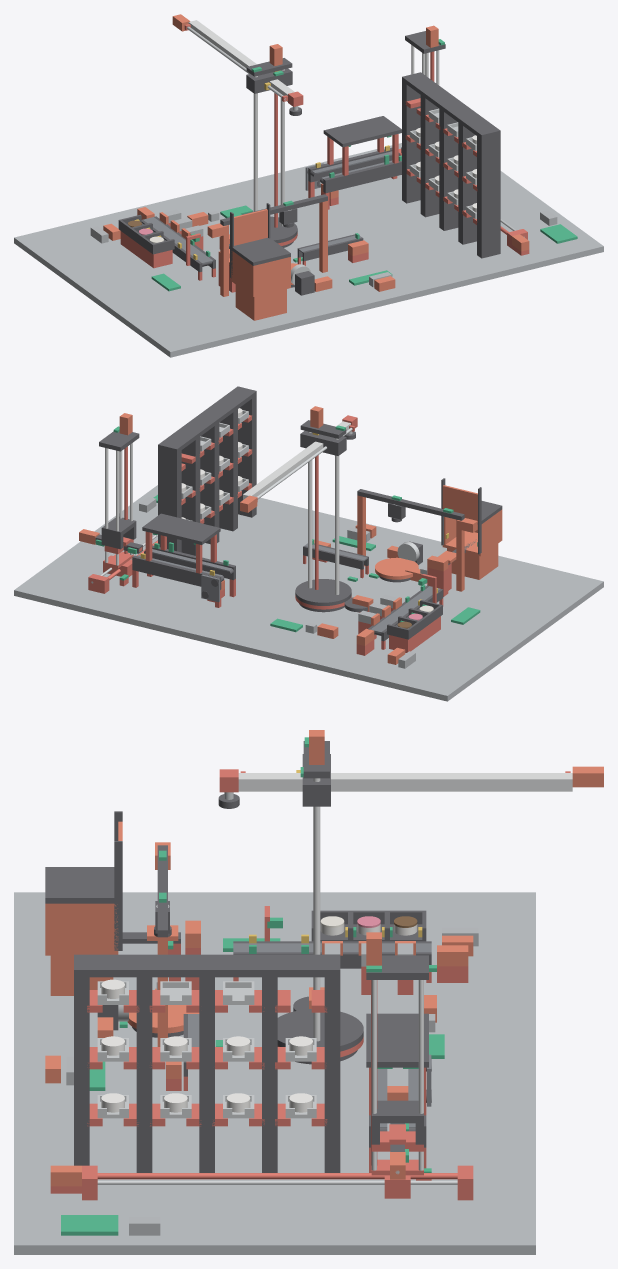
The model's file is factory_scene.glb.
3 views of the same model, one above another, from view 1: azimuth 30°, elevation 25°; view 2: azimuth 150°, elevation 25°; view 3: azimuth 270°, elevation 25° (orthographic). The views are drawn at different scales.
Parts seen in each view (by area): view 1: Base_Plate, rack_post_1, rack_cap_beam, rack_post_4, rack_post_3, rack_post_5, rack_post_2, cover_roof, oven_pedestal, cv_side_rail_L, oven_roof, Q13_oven_door (+13 smaller); view 2: Base_Plate, rack_cap_beam, rack_post_5, rack_post_2, rack_post_3, rack_post_4, cover_roof, rack_post_1, turntable_disc, cv_side_rail_R, arm, oven_pedestal (+15 smaller); view 3: Base_Plate, rack_cap_beam, arm, oven_wall_R, rack_post_5, rack_post_2, rack_post_3, rack_post_4, rack_post_1, cover_roof, oven_roof, travel_spindle (+18 smaller).
Boxes of the visible parts, x1=… form: Base_Plate: x1=14, y1=143, x2=603, y2=357; rack_post_1: x1=477, y1=135, x2=500, y2=258; rack_cap_beam: x1=402, y1=72, x2=500, y2=139; rack_post_4: x1=420, y1=95, x2=439, y2=217; rack_post_3: x1=439, y1=109, x2=458, y2=230; rack_post_5: x1=402, y1=81, x2=420, y2=203; rack_post_2: x1=458, y1=122, x2=476, y2=244; cover_roof: x1=323, y1=116, x2=401, y2=147; oven_pedestal: x1=235, y1=285, x2=286, y2=320; cv_side_rail_L: x1=323, y1=161, x2=401, y2=193; oven_roof: x1=232, y1=237, x2=290, y2=265; Q13_oven_door: x1=234, y1=209, x2=267, y2=245; Base_Plate: x1=14, y1=485, x2=603, y2=701; rack_cap_beam: x1=158, y1=386, x2=256, y2=453; rack_post_5: x1=158, y1=449, x2=181, y2=552; rack_post_2: x1=219, y1=409, x2=237, y2=531; rack_post_3: x1=200, y1=423, x2=219, y2=544; rack_post_4: x1=181, y1=437, x2=200, y2=555; cover_roof: x1=142, y1=513, x2=220, y2=544; rack_post_1: x1=238, y1=395, x2=256, y2=517; turntable_disc: x1=295, y1=579, x2=351, y2=605; cv_side_rail_R: x1=132, y1=555, x2=221, y2=589; arm: x1=243, y1=421, x2=350, y2=499; oven_pedestal: x1=447, y1=544, x2=498, y2=579; Base_Plate: x1=14, y1=892, x2=535, y2=1254; rack_cap_beam: x1=74, y1=954, x2=340, y2=977; arm: x1=238, y1=773, x2=572, y2=791; oven_wall_R: x1=45, y1=903, x2=118, y2=950; rack_post_5: x1=324, y1=977, x2=340, y2=1172; rack_post_2: x1=136, y1=977, x2=152, y2=1172; rack_post_3: x1=199, y1=977, x2=214, y2=1172; rack_post_4: x1=262, y1=977, x2=277, y2=1172; rack_post_1: x1=74, y1=977, x2=89, y2=1165; cover_roof: x1=366, y1=1013, x2=428, y2=1067; oven_roof: x1=45, y1=867, x2=114, y2=903; travel_spindle: x1=97, y1=1173, x2=457, y2=1179.
Bounding box in the file's own units: 1.6 × 0.694 × 1.13.
